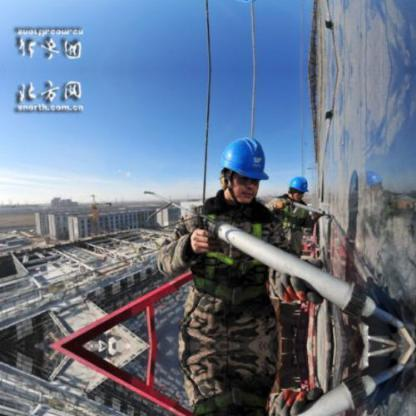helmet: (215, 134, 271, 185), (286, 171, 313, 198)
